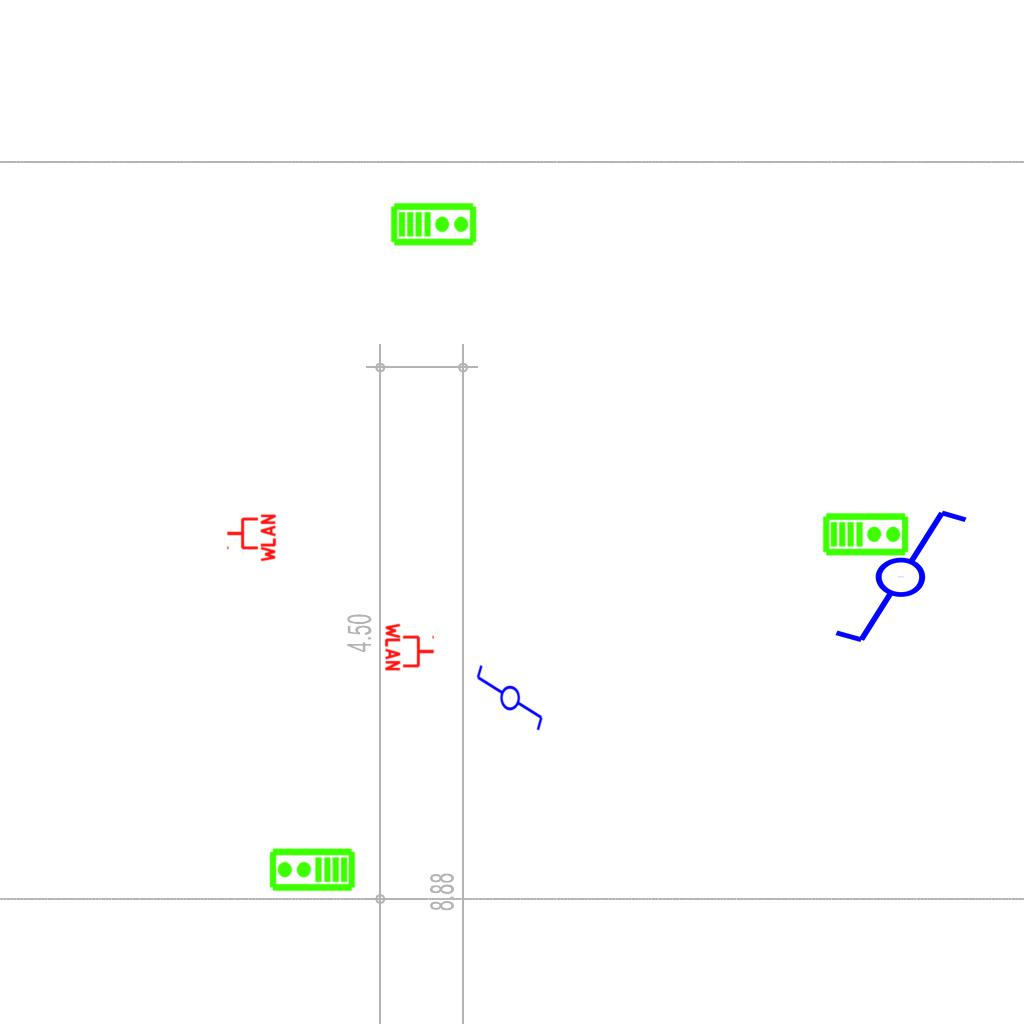Gegensprechanlage_mit_Video: (268, 847, 356, 894), (390, 200, 478, 247), (822, 510, 910, 557)
WLAN: (384, 621, 436, 673), (225, 512, 277, 564)
Wechselschalter: (814, 503, 971, 647), (473, 663, 545, 741)
